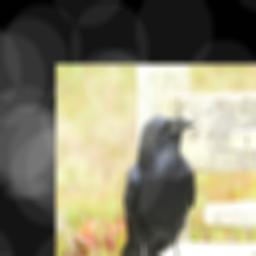Crow: (121, 115, 197, 256)
